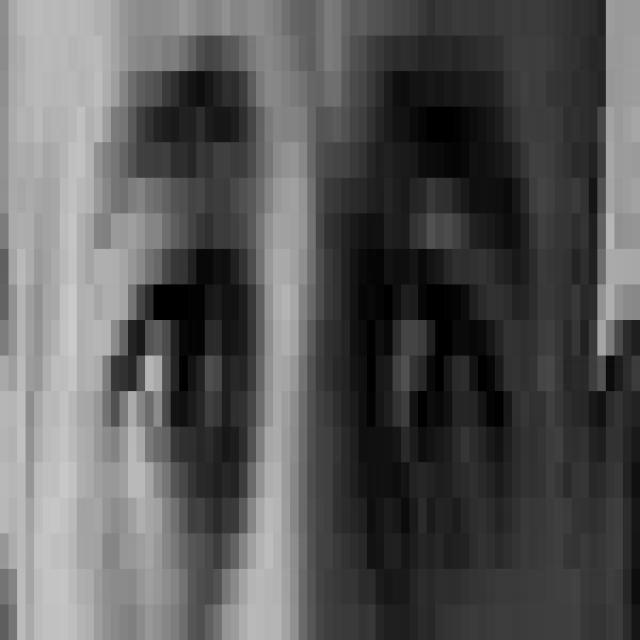real: (80, 54, 548, 582)
